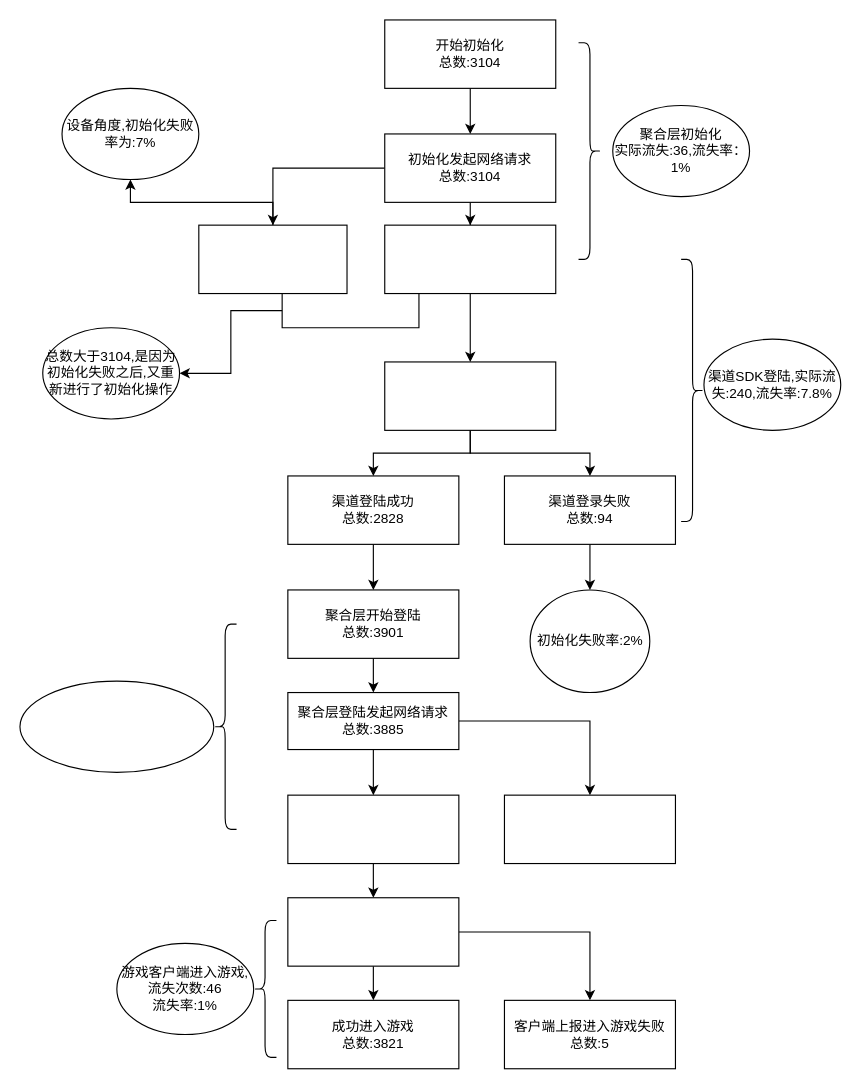
The diagram is 861 pixels wide and 1089 high, and some of its shapes have lost their labels. The shapes that lost their labels are listed below. From the top down, each one's box as (x1, y1, x2, y2) in pixels, then its label:
(198, 224, 347, 294): 初始化失败 总数:233
(384, 224, 556, 294): 初始化成功 总数:3068
(384, 361, 556, 430): 渠道登陆
(19, 680, 214, 772): 聚合层登陆 实际流失数:27 实际流失率:0.6%
(287, 794, 459, 864): 聚合层登陆成功 总数:3874
(503, 794, 675, 864): 聚合层登陆失败 总数:17
(287, 897, 459, 966): 客户端向游戏发起登陆请求 总数:3872
